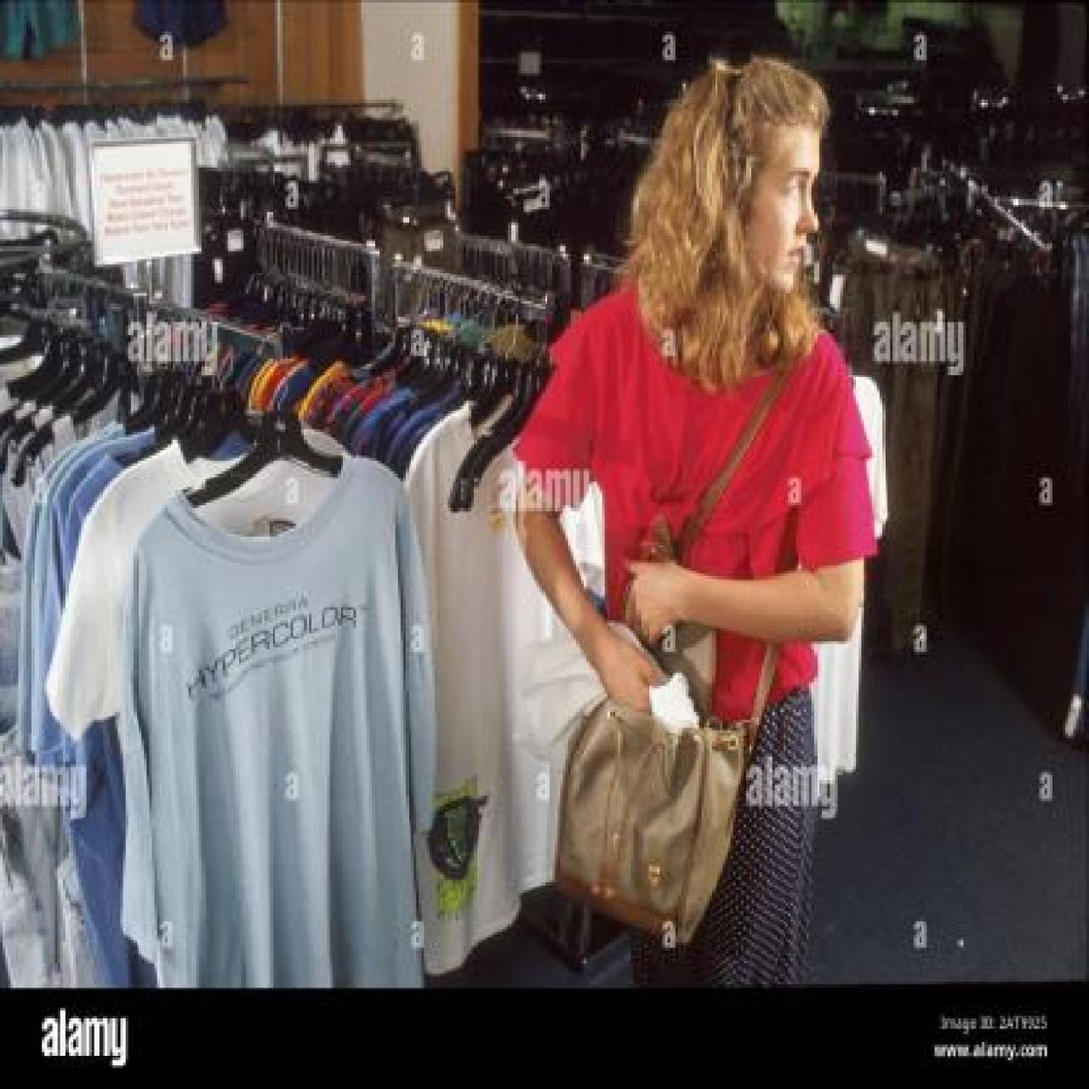shoplifting: (505, 347, 872, 991)
